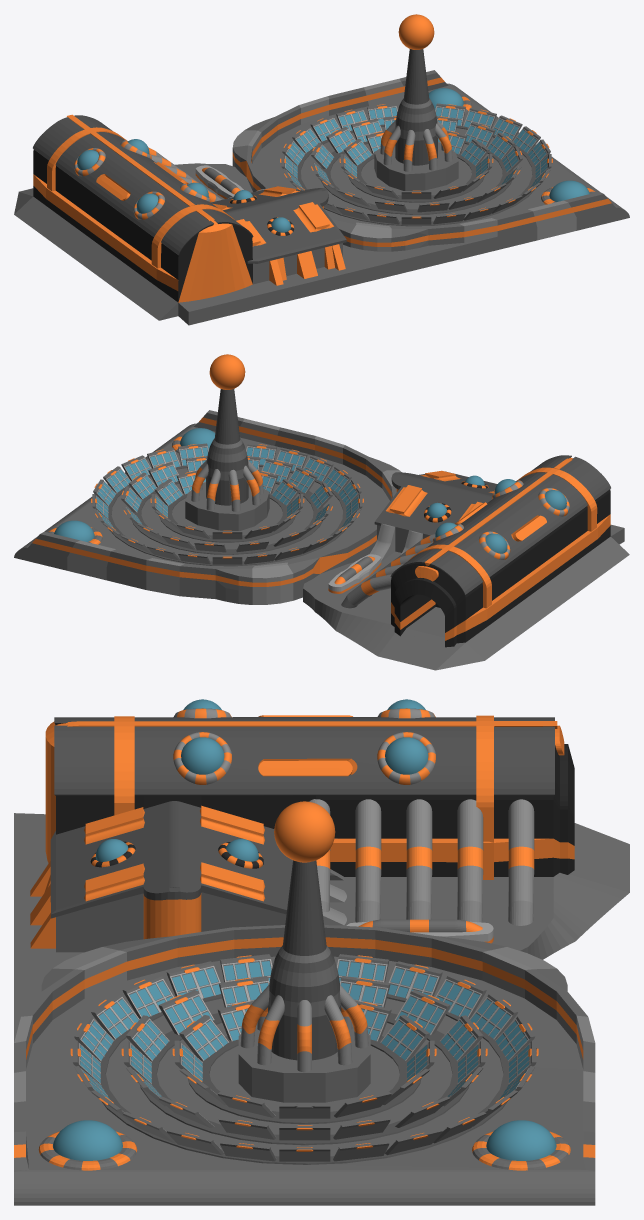
The model's file is SolarFarm.glb.
3 renders of one model, top to bottom at view 1: azimuth 30°, elevation 25°; view 2: azimuth 150°, elevation 25°; view 3: azimuth 270°, elevation 25°, orthographic. The views are drawn at different scales.
Visible parts, largest first — view 1: Solarfarm_part_1_Circle.003, Solarfarm_part_2_Torus.003; view 2: Solarfarm_part_1_Circle.003, Solarfarm_part_2_Torus.003; view 3: Solarfarm_part_1_Circle.003, Solarfarm_part_2_Torus.003.
Part boxes in pixels (x1=…): Solarfarm_part_1_Circle.003: x1=14, y1=49, x2=629, y2=325; Solarfarm_part_2_Torus.003: x1=74, y1=14, x2=589, y2=235; Solarfarm_part_1_Circle.003: x1=14, y1=389, x2=629, y2=670; Solarfarm_part_2_Torus.003: x1=54, y1=354, x2=569, y2=559; Solarfarm_part_1_Circle.003: x1=14, y1=715, x2=629, y2=1205; Solarfarm_part_2_Torus.003: x1=53, y1=699, x2=556, y2=1160.
Bounding box in the file's own units: 71.27 × 25.64 × 48.31.
